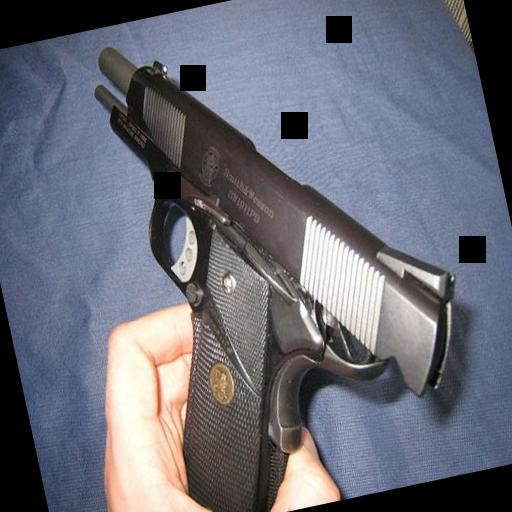Handgun: (80, 0, 491, 512)
